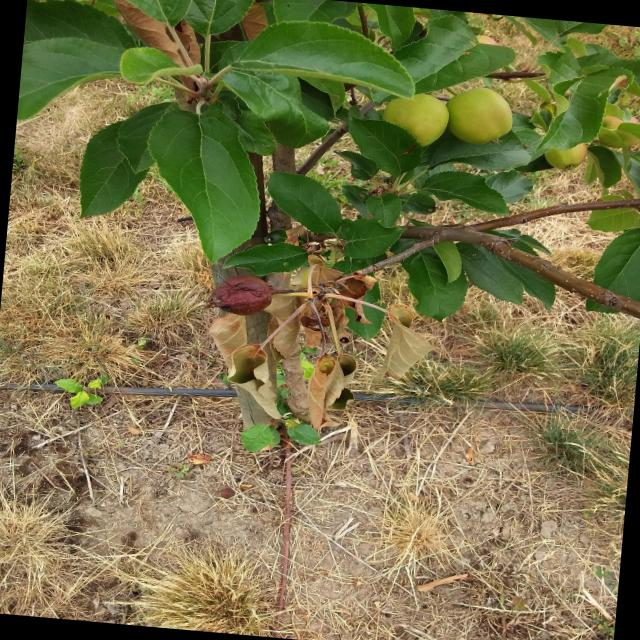-FireBlight-: (287, 258, 372, 428)
